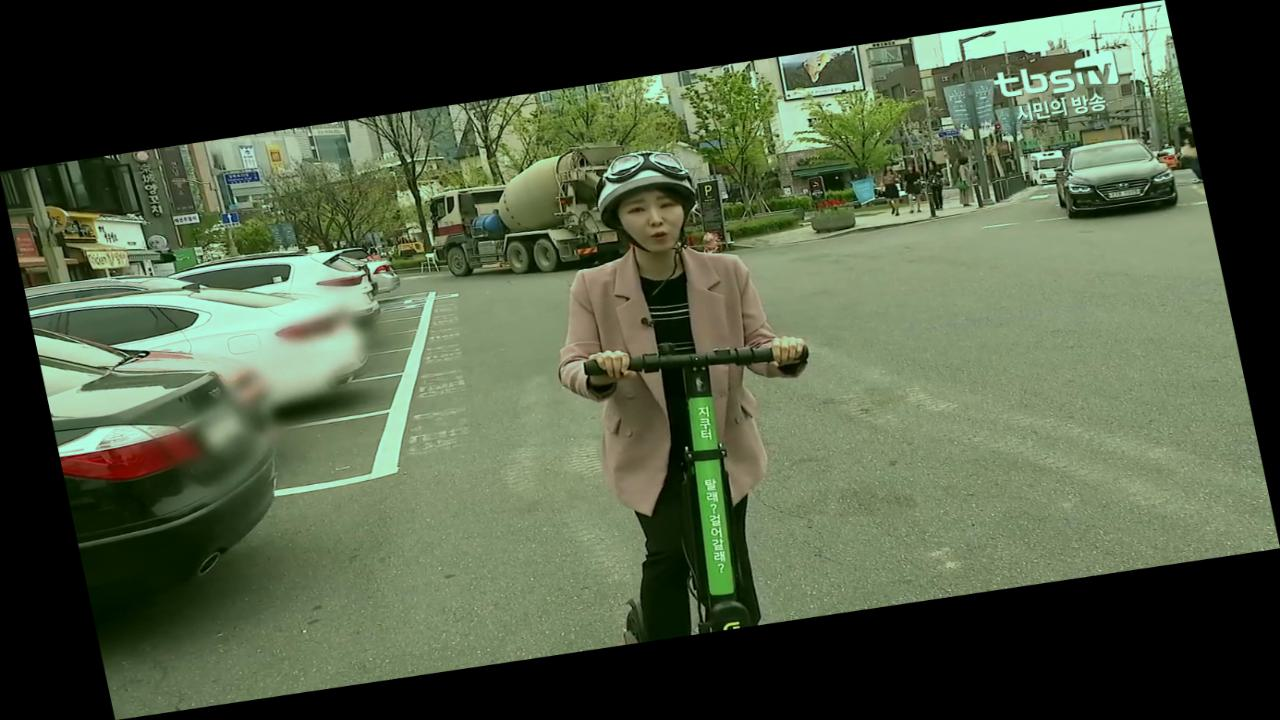helmet: (514, 131, 868, 646)
